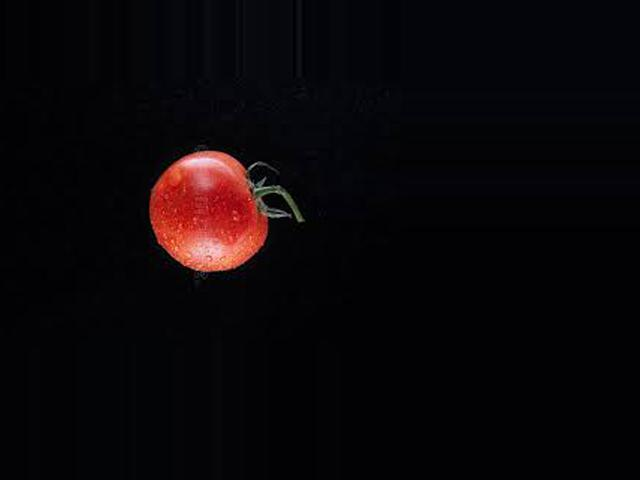tomato: (148, 151, 268, 272)
